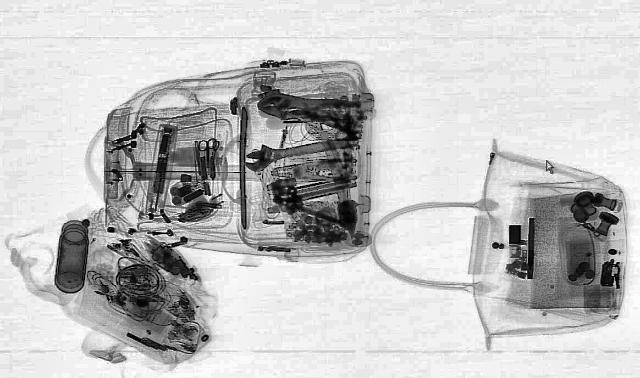Pliers: (254, 89, 366, 125), (269, 158, 357, 182)
Wrench: (234, 128, 366, 172)
